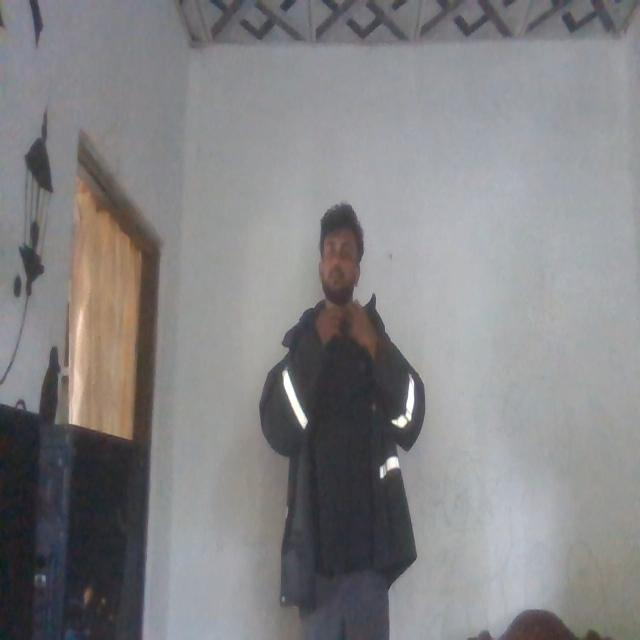Jacket_Wearer: (251, 302, 428, 588)
Person: (257, 200, 423, 640)
